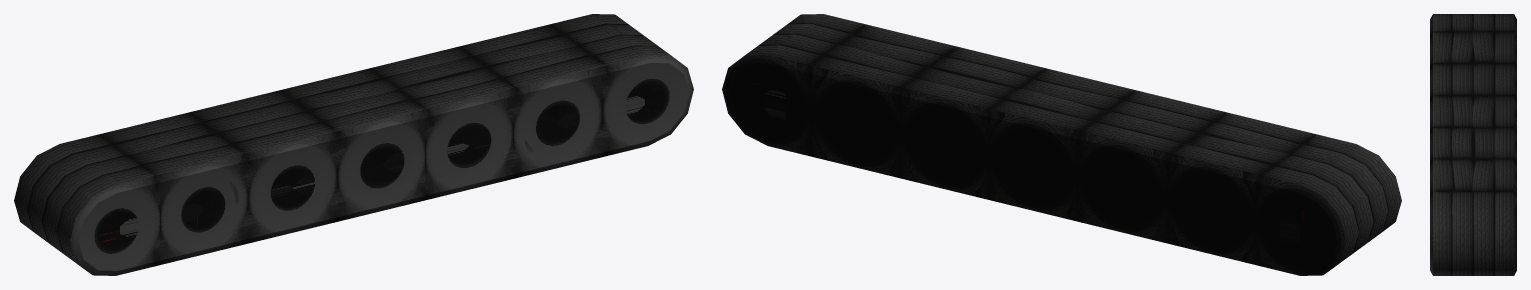
Rendered from TireWall_Large.obj.
3 views of the same model, side by side, from view 1: azimuth 30°, elevation 25°; view 2: azimuth 150°, elevation 25°; view 3: azimuth 270°, elevation 25° (orthographic). The views are drawn at different scales.
Visible parts, largest first — view 1: TireWall_Large; view 2: TireWall_Large; view 3: TireWall_Large.
Part boxes in pixels (bbox=[...]): TireWall_Large: bbox=[14, 14, 693, 275]; TireWall_Large: bbox=[722, 14, 1401, 275]; TireWall_Large: bbox=[1430, 14, 1516, 275].
Size of the model in its own units: 4.96 by 0.6926 by 0.8237.
Materials: 1 (1 with a texture image).
